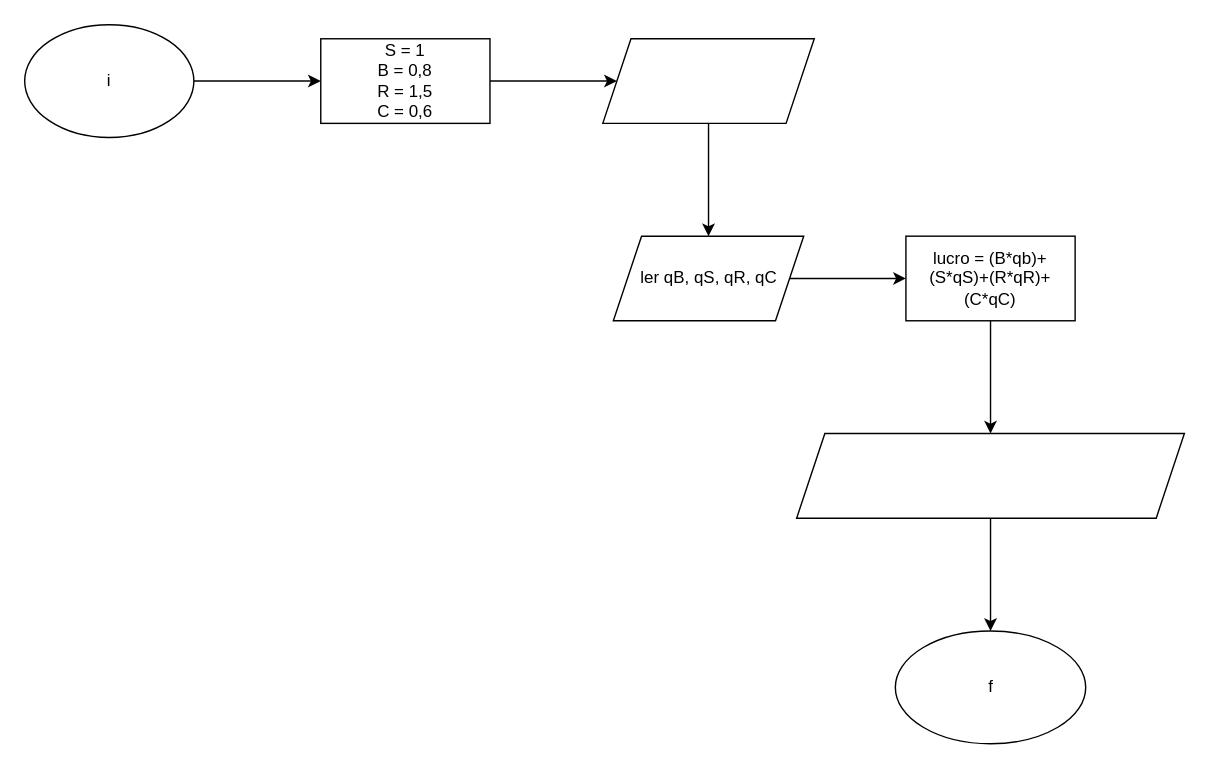
Some shapes in this 1210 by 768 pixel diagram are drawn without their labels. Here are the shapes that lost their labels. From the top down, the centre of each, then its label:
[707,80]: ler preço S, B, R, C
[989,475]: escrever "o lucro foi "<< lucro <<"".
